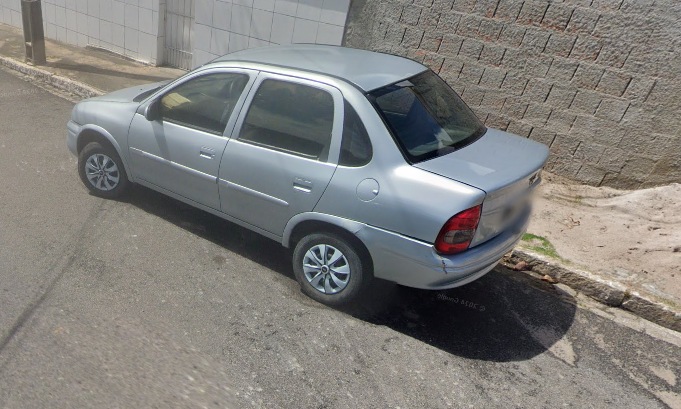car: (62, 39, 553, 313)
